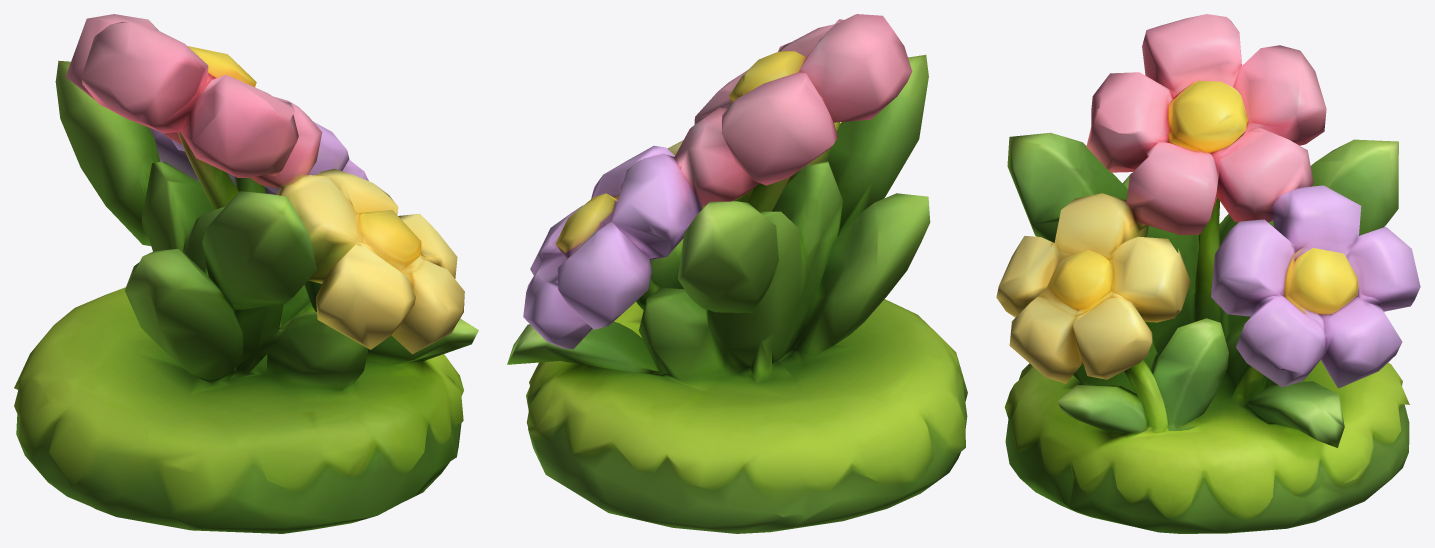
File: Kit_M_FlowersA_raw.glb
3 renders of one model, left to right at view 1: azimuth 30°, elevation 25°; view 2: azimuth 150°, elevation 25°; view 3: azimuth 270°, elevation 25°, orthographic. The views are drawn at different scales.
Parts seen in each view (by area): view 1: tripo_node_4ea7007d-3d25-4a33-a869-317bf08743b0; view 2: tripo_node_4ea7007d-3d25-4a33-a869-317bf08743b0; view 3: tripo_node_4ea7007d-3d25-4a33-a869-317bf08743b0.
Boxes of the visible parts, x1,y1,x2,y2 form: tripo_node_4ea7007d-3d25-4a33-a869-317bf08743b0: (14,14,478,533); tripo_node_4ea7007d-3d25-4a33-a869-317bf08743b0: (507,14,967,533); tripo_node_4ea7007d-3d25-4a33-a869-317bf08743b0: (996,14,1420,533).
Bounding box in the file's own units: 0.9139 × 1 × 0.9643.
1 material, 1 textured.
